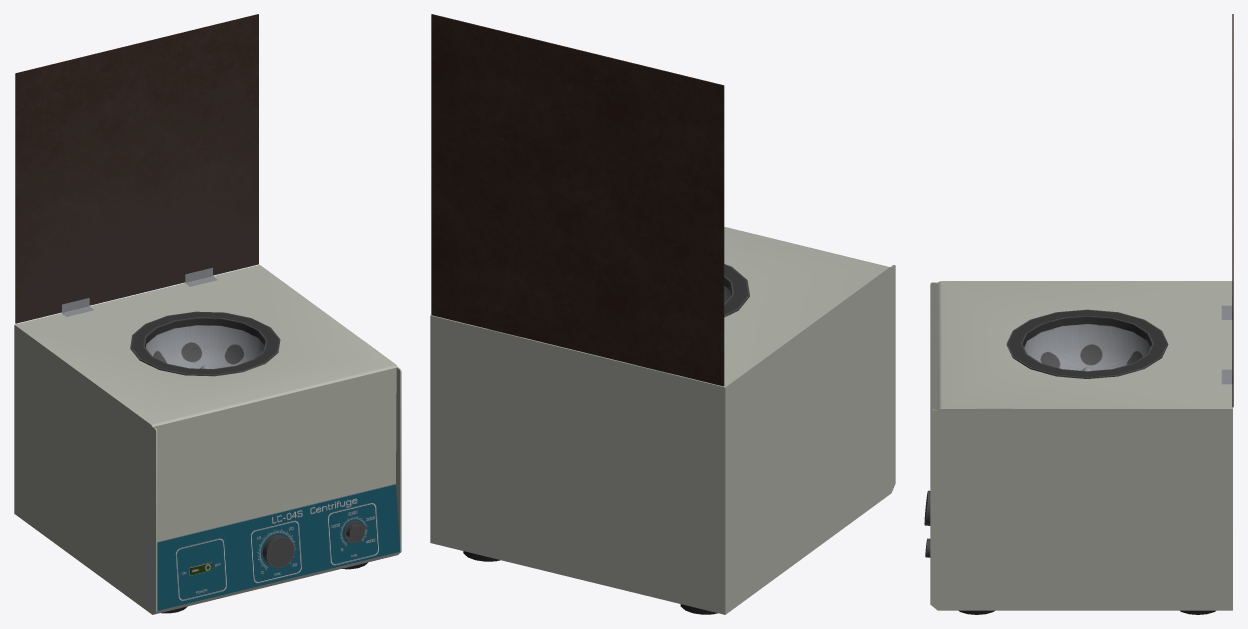
File: Centrifuge.fbx
The picture shows the model from 3 angles, left to right: view 1: azimuth 30°, elevation 25°; view 2: azimuth 150°, elevation 25°; view 3: azimuth 270°, elevation 25°; orthographic projection. The views are drawn at different scales.
Parts seen in each view (by area): view 1: Cube, Cube.001, Cylinder.001; view 2: Cube, Cube.001; view 3: Cube, Cube.001.
Boxes of the visible parts, x1,y1,x2,y2 form: Cube: [14, 265, 401, 614]; Cube.001: [15, 14, 258, 323]; Cylinder.001: [262, 535, 294, 568]; Cube: [430, 227, 895, 614]; Cube.001: [431, 14, 724, 386]; Cube: [930, 281, 1232, 610]; Cube.001: [1232, 14, 1233, 407].
Size of the model in its own units: 46.86 by 82.17 by 47.87.
Materials: 2 (2 with a texture image).
